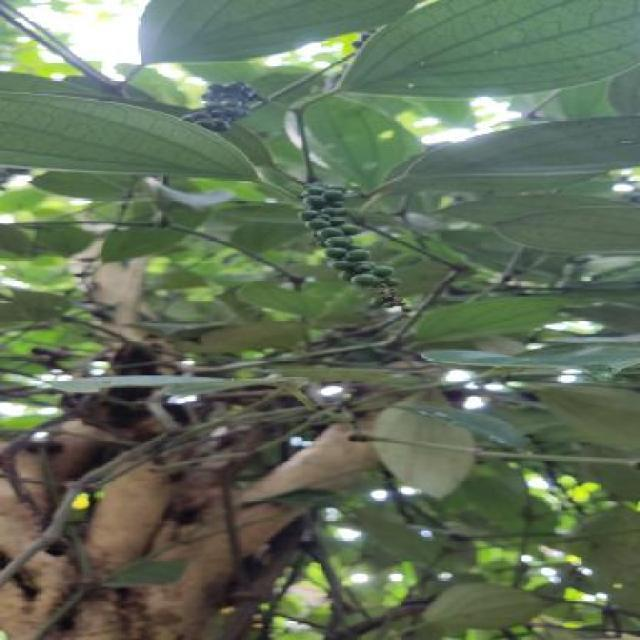UNRIPE: (300, 182, 402, 286), (185, 82, 260, 128)
